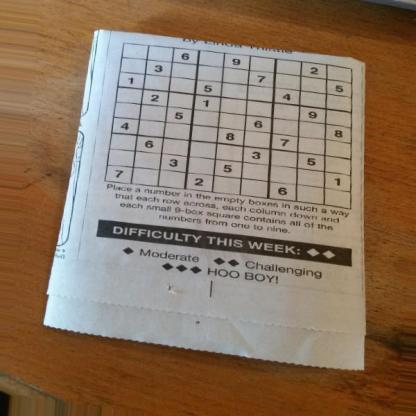sudoku: (102, 40, 355, 211)
